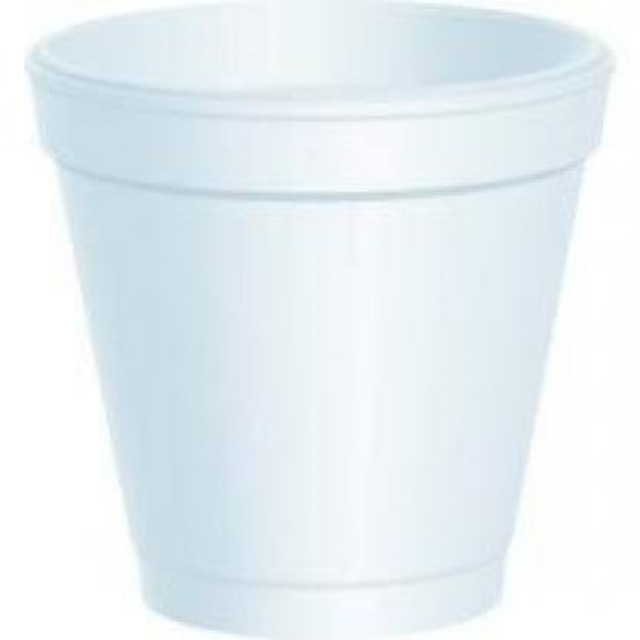trash: (31, 0, 611, 638)
